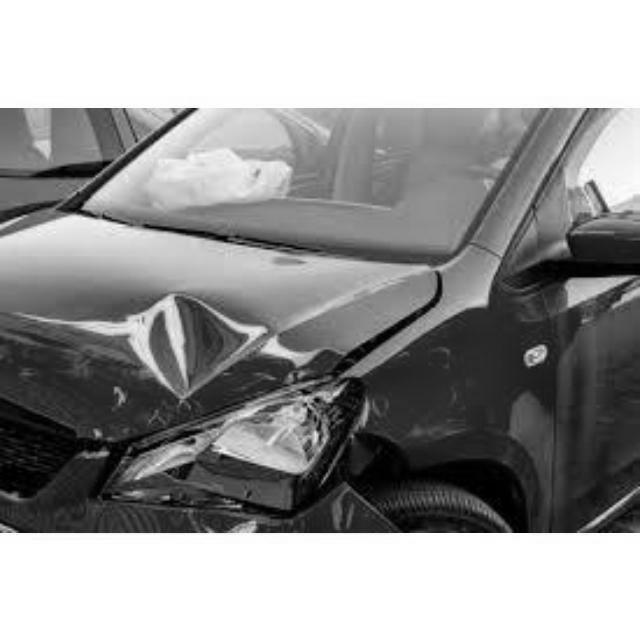bonnet-dent: (2, 245, 402, 435)
